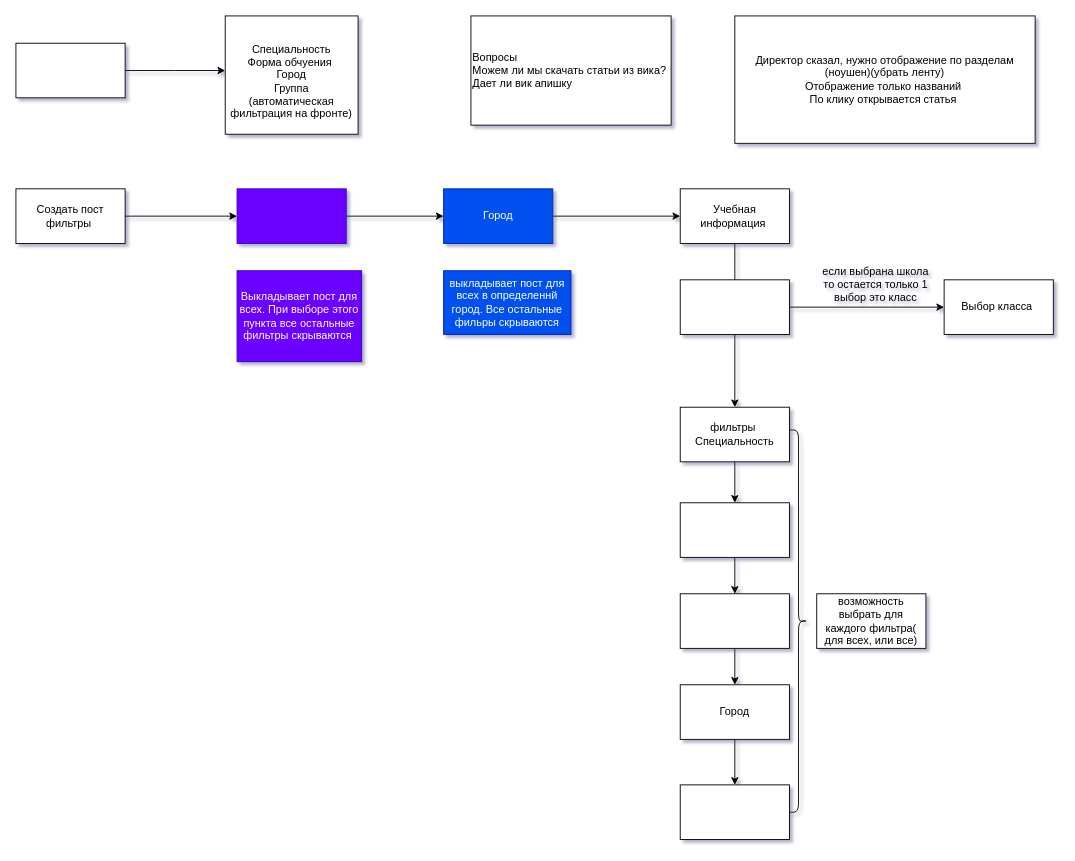
The diagram is 1075 pixels wide and 861 high, and some of its shapes have lost their labels. The centre of each missing label's shape, as x and y in pixels:
вход студента: the point at 70,70
Год поступления: the point at 734,620
Группа (не обязательно): the point at 734,811
Колледж Вуз Школа: the point at 734,306
Общая информация: the point at 291,215
Форма обучения: the point at 734,529
